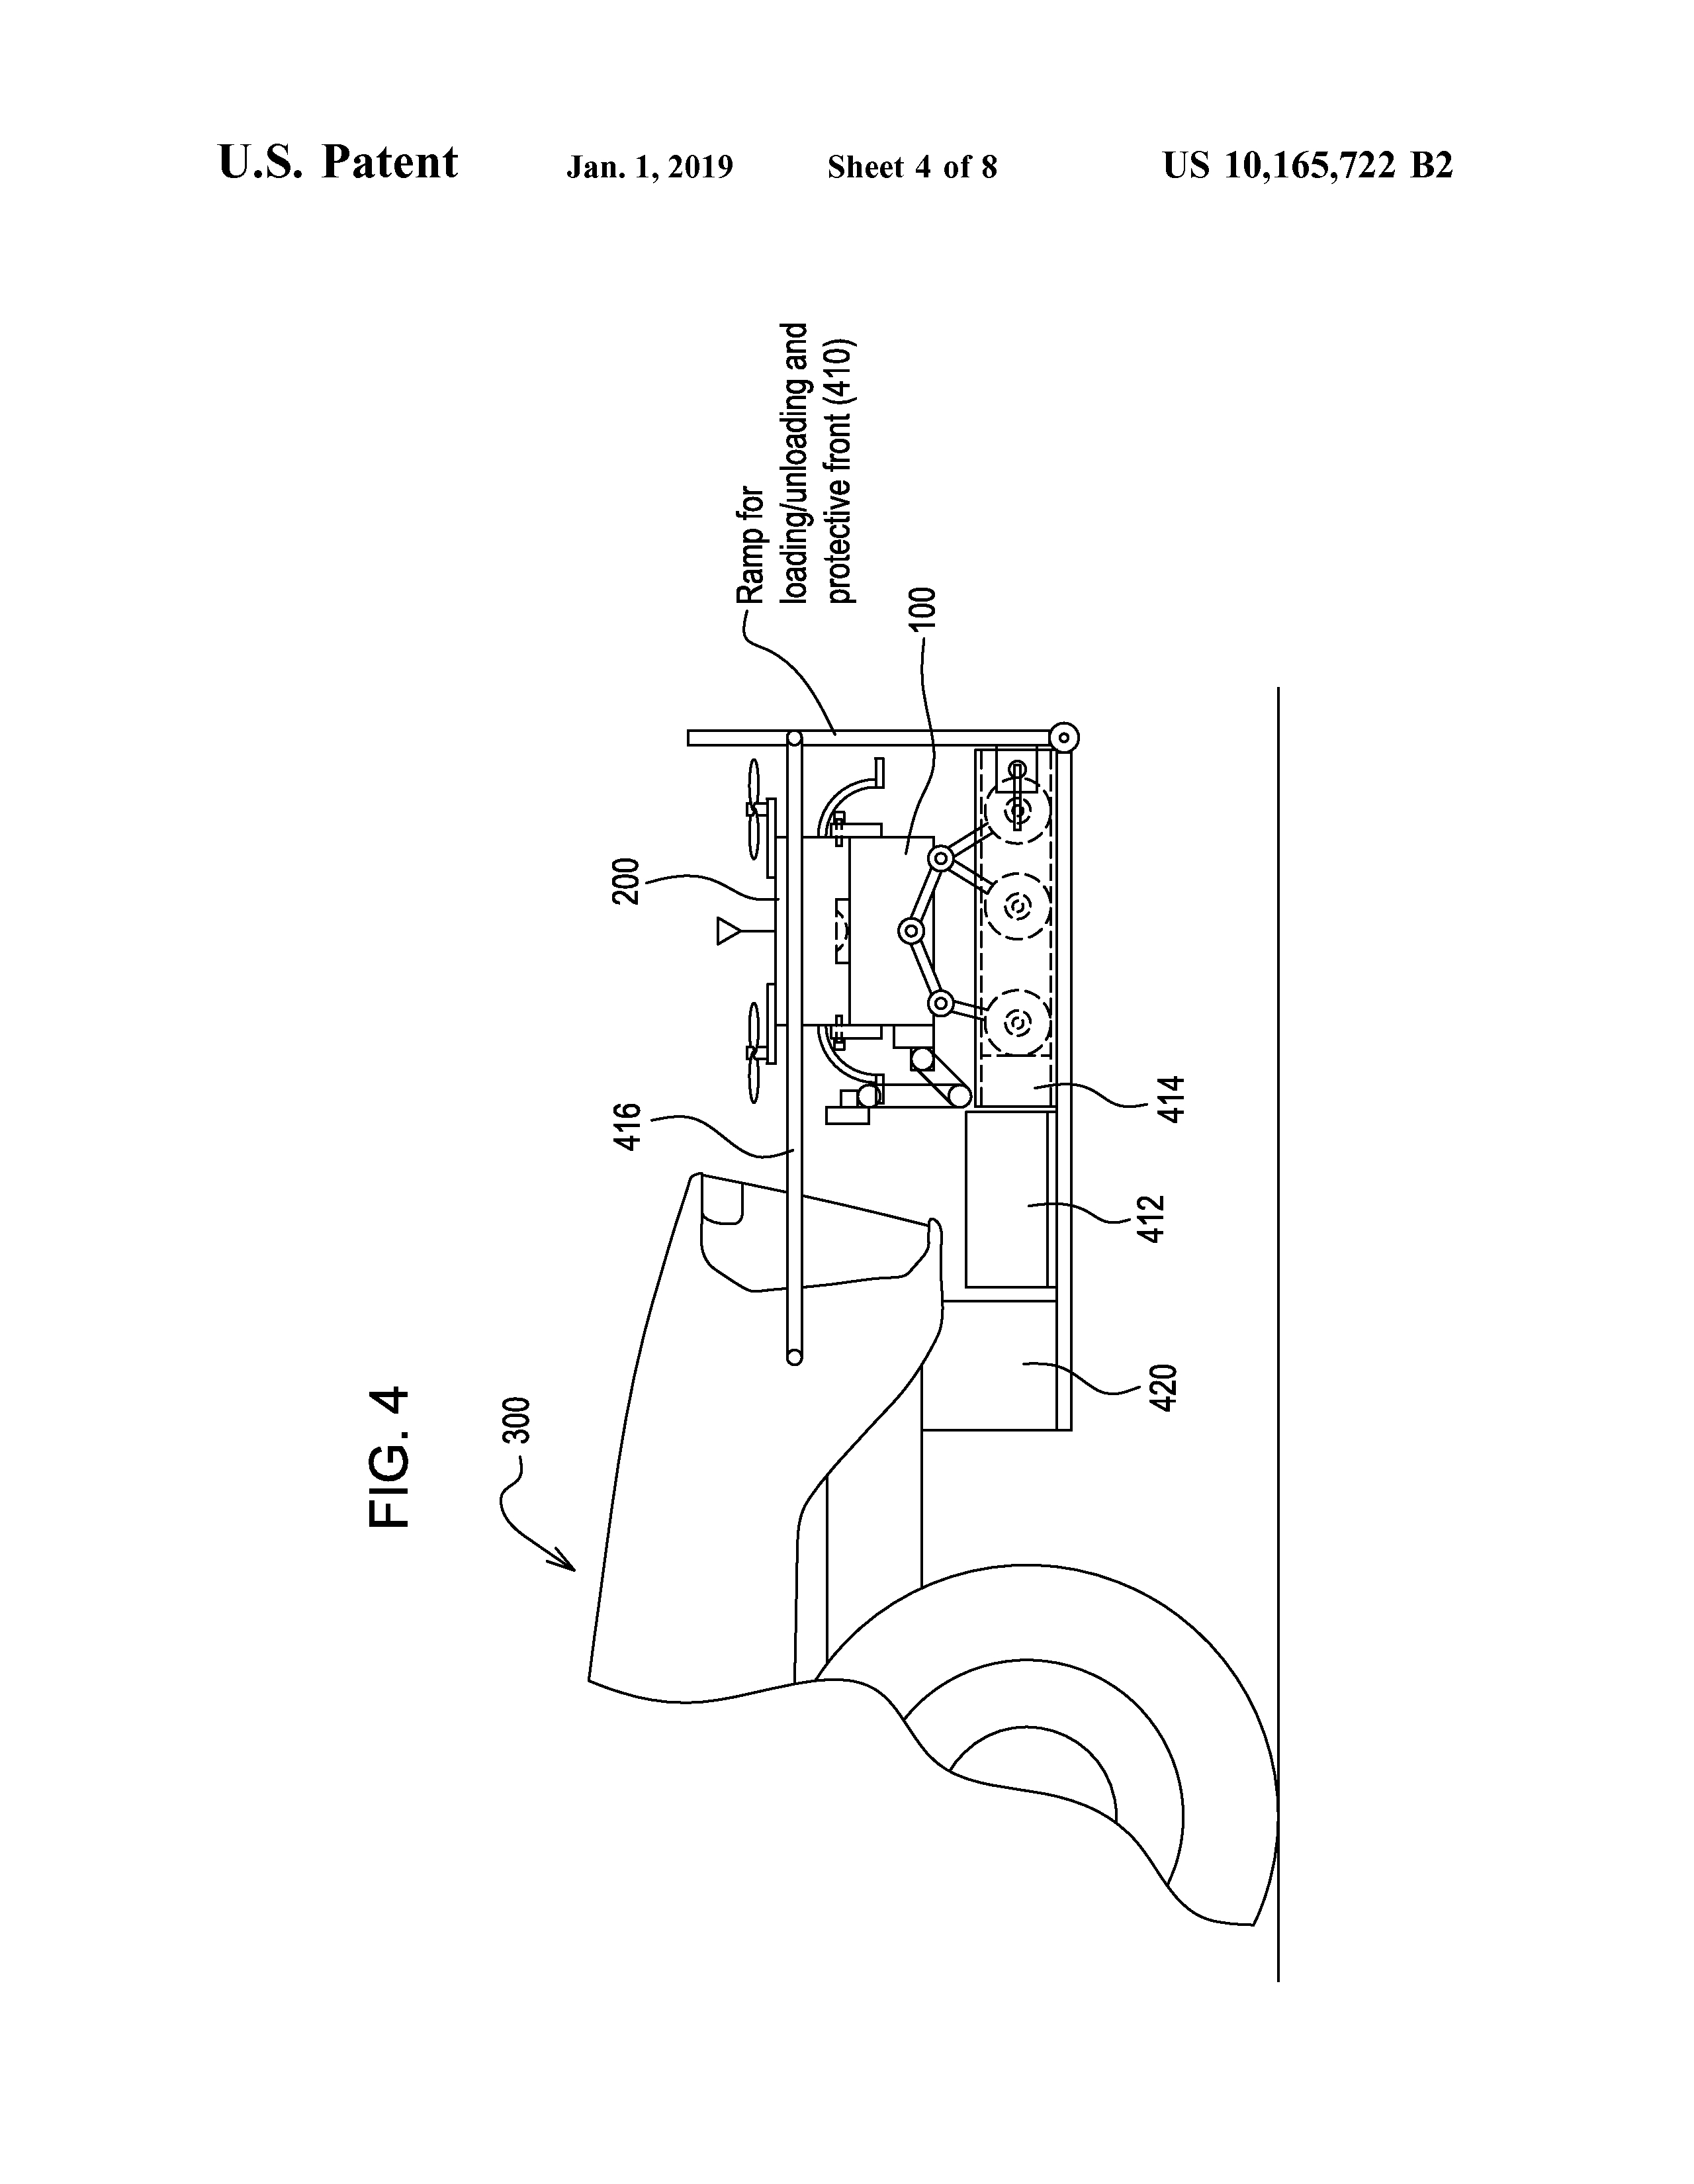patent image: (333, 282, 1435, 2066)
